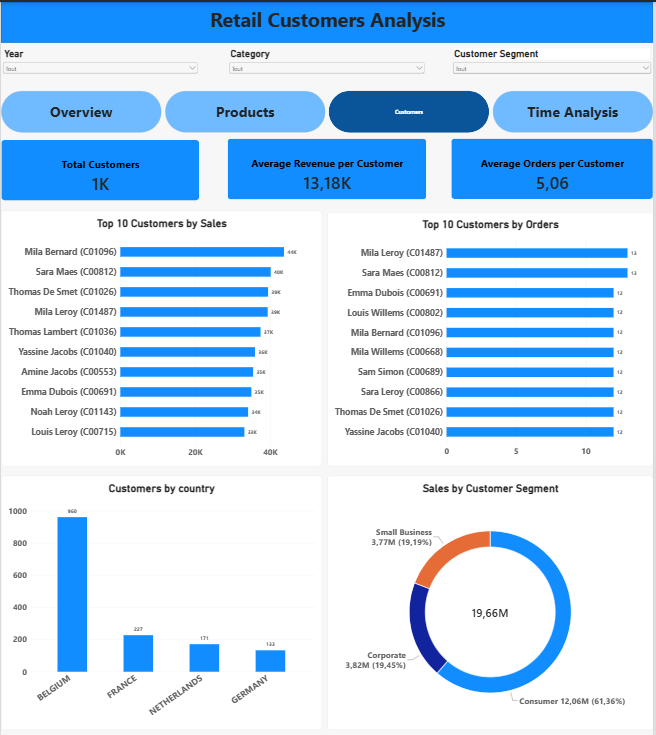

This screenshot's page, from the dashboard's own definition file:
{"tool":"powerbi","page":{"name":"Customers","canvas":[1600,1800],"ordinal":2},"visuals":[{"type":"shape","box":[0,0,1600.4,100.3],"z":0},{"type":"cardVisual","fields":{"Data":["Measure table.Total Customers"]},"box":[0,337.2,487.4,150.3],"z":1000},{"type":"cardVisual","fields":{"Data":["Measure table.Average Revenue per Customer"]},"box":[555.6,335.4,489.2,152],"z":2000},{"type":"cardVisual","fields":{"Data":["Measure table.Average Orders per Customer"]},"box":[1104.2,335.4,496.2,150.3],"z":3000},{"type":"clusteredColumnChart","title":"Customers by country","fields":{"Category":["gold Dim_Customers.Country"],"Y":["Measure table.Total Customers"]},"box":[0,1161.8,787.9,623.7],"z":4000},{"type":"slicer","fields":{"Values":["gold Dim_Date.Year"]},"box":[0,113.6,487.4,90.8],"z":5000},{"type":"slicer","fields":{"Values":["gold Dim_Products.Category"]},"box":[555.6,113.6,489.2,90.8],"z":6000},{"type":"slicer","fields":{"Values":["gold Dim_Customers.Segment"]},"box":[1104.2,113.6,496.2,90.8],"z":7000},{"type":"textbox","box":[456,8.7,688.4,90.8],"z":8000},{"type":"pageNavigator","box":[0,218.4,1600.3,103.1],"z":9000},{"type":"clusteredBarChart","title":"Top 10 Customers by Sales","fields":{"Y":["Measure table.Total Sales"],"Category":["gold Dim_Customers.Customer_Label"]},"box":[0,511.9,787.9,627.2],"z":10000},{"type":"clusteredBarChart","title":"Top 10 Customers by Orders","fields":{"Y":["Measure table.Total Orders"],"Category":["gold Dim_Customers.Customer_Label"]},"box":[801.1,516.2,800.2,623.7],"z":11000},{"type":"donutChart","title":"Sales by Customer Segment","fields":{"Y":["Measure table.Total Sales"],"Category":["gold Dim_Customers.Segment"]},"box":[799.3,1162.4,800.2,623.7],"z":12000}]}

Visuals, with their boxes in screenshot pixels (x1, y1, x2, y2), scaled from the page's 1600x1800 canvas onto the 656x735 screenshot:
shape: bbox(0, 0, 655, 41)
cardVisual - Measure table.Total Customers: bbox(0, 138, 200, 199)
cardVisual - Measure table.Average Revenue per Customer: bbox(228, 137, 428, 199)
cardVisual - Measure table.Average Orders per Customer: bbox(453, 137, 655, 198)
"Customers by country" clusteredColumnChart: bbox(0, 474, 323, 729)
slicer - gold Dim_Date.Year: bbox(0, 46, 200, 83)
slicer - gold Dim_Products.Category: bbox(228, 46, 428, 83)
slicer - gold Dim_Customers.Segment: bbox(453, 46, 655, 83)
textbox: bbox(187, 4, 469, 41)
pageNavigator: bbox(0, 89, 655, 131)
"Top 10 Customers by Sales" clusteredBarChart: bbox(0, 209, 323, 465)
"Top 10 Customers by Orders" clusteredBarChart: bbox(328, 211, 655, 465)
"Sales by Customer Segment" donutChart: bbox(328, 475, 655, 729)
